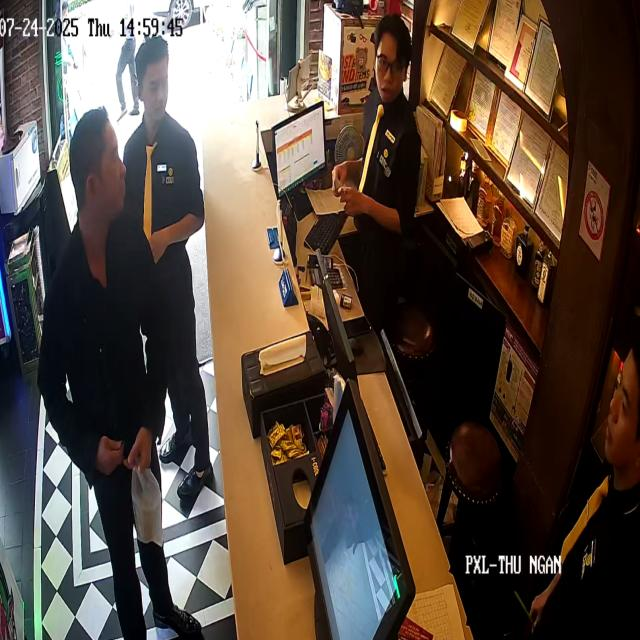nhan vien: (61, 130, 184, 573), (139, 22, 221, 444), (342, 23, 427, 319)
